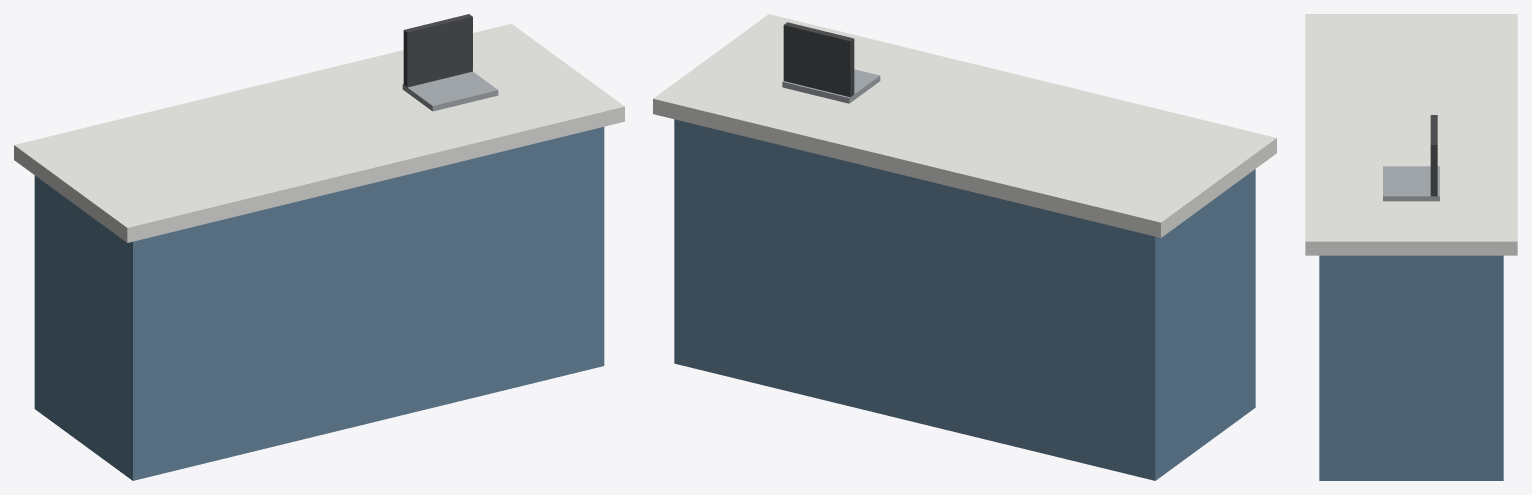
The model's file is motorcycle-racing-and-street-bikes-service-counter-bffc361b__15463.glb.
3 views of the same model, side by side, from view 1: azimuth 30°, elevation 25°; view 2: azimuth 150°, elevation 25°; view 3: azimuth 270°, elevation 25° (orthographic). The views are drawn at different scales.
Visible parts, largest first — view 1: service-counter; view 2: service-counter; view 3: service-counter.
Part boxes in pixels (x1,y1,x2,y2): service-counter: [14, 14, 624, 480]; service-counter: [653, 14, 1276, 480]; service-counter: [1305, 14, 1517, 480].
Size of the model in its own units: 1.9 by 1.18 by 0.7499.
